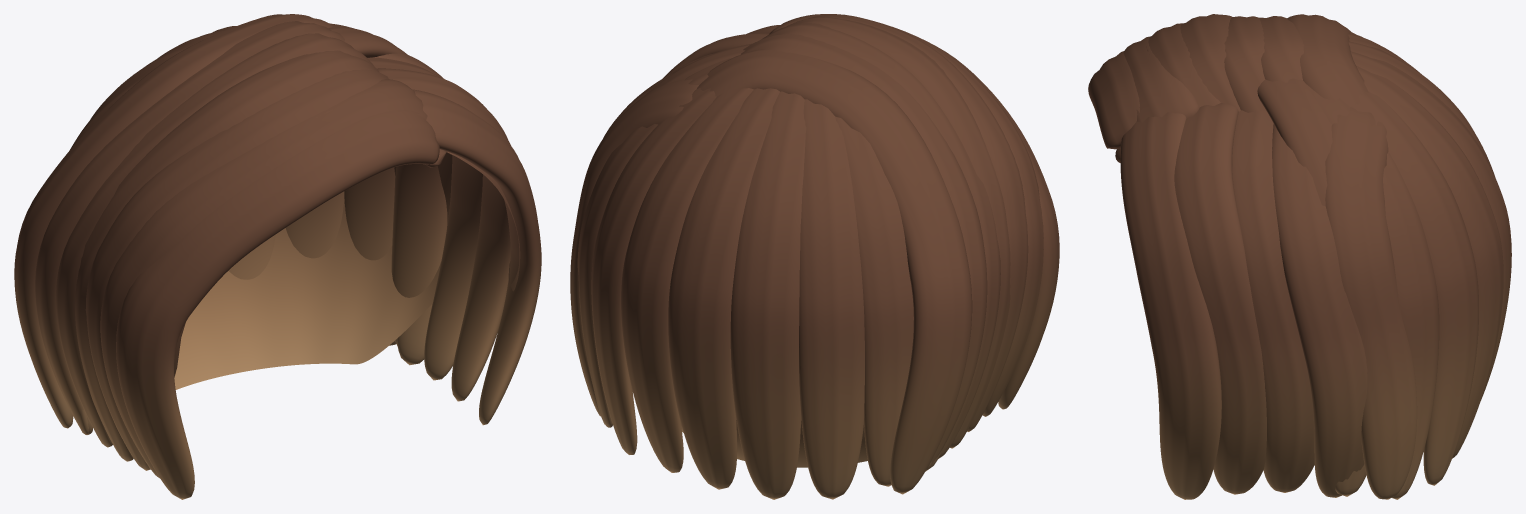
Rendered from bob-none-ombre.glb.
3 renders of one model, left to right at view 1: azimuth 30°, elevation 25°; view 2: azimuth 150°, elevation 25°; view 3: azimuth 270°, elevation 25°, orthographic. The views are drawn at different scales.
Visible parts, largest first — view 1: 226 hair / Hair / sculpted 0.004, 226 hair / Hair / sculpted 1.005, 226 hair / Hair / sculpted 2.004, 226 hair / Hair / sculpted 1; view 2: 226 hair / Hair / sculpted 0.004, 226 hair / Hair / sculpted 2.004, 226 hair / Hair / sculpted 1.005, 226 hair / Hair / sculpted 1; view 3: 226 hair / Hair / sculpted 1.005, 226 hair / Hair / sculpted 2.004, 226 hair / Hair / sculpted 0.004.
Part boxes in pixels (box(x1,y1,x2,y2)): 226 hair / Hair / sculpted 0.004: box(14, 14, 482, 499); 226 hair / Hair / sculpted 1.005: box(56, 27, 541, 478); 226 hair / Hair / sculpted 2.004: box(35, 21, 510, 470); 226 hair / Hair / sculpted 1: box(174, 151, 520, 389); 226 hair / Hair / sculpted 0.004: box(591, 17, 1059, 499); 226 hair / Hair / sculpted 2.004: box(570, 14, 1028, 489); 226 hair / Hair / sculpted 1.005: box(603, 14, 1043, 499); 226 hair / Hair / sculpted 1: box(681, 420, 867, 467); 226 hair / Hair / sculpted 1.005: box(1120, 16, 1503, 499); 226 hair / Hair / sculpted 2.004: box(1146, 16, 1511, 499); 226 hair / Hair / sculpted 0.004: box(1088, 14, 1495, 492).
Size of the model in its own units: 0.8252 by 0.7463 by 0.7108.
